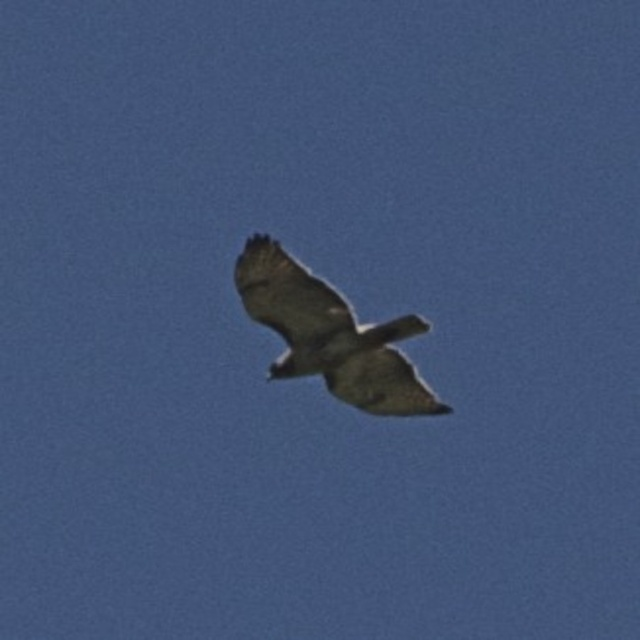Eagle: (230, 228, 461, 424)
